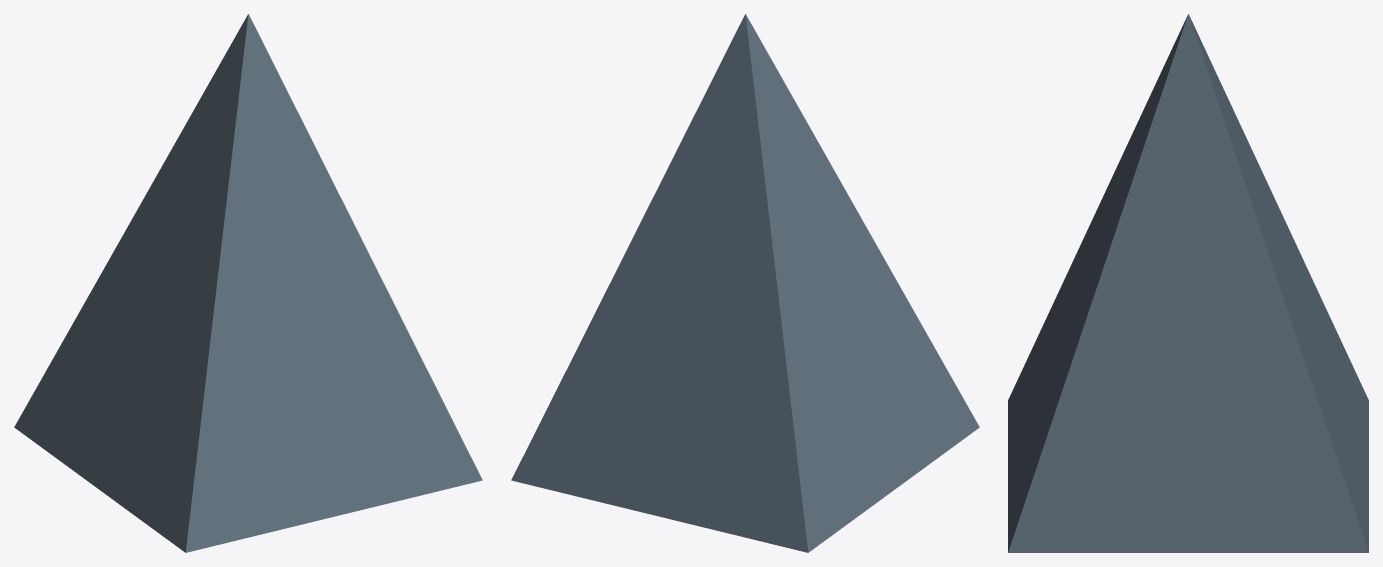
3 renders of one model, left to right at view 1: azimuth 30°, elevation 25°; view 2: azimuth 150°, elevation 25°; view 3: azimuth 270°, elevation 25°, orthographic. The views are drawn at different scales.
Visible parts, largest first — view 1: P06_Pyramid; view 2: P06_Pyramid; view 3: P06_Pyramid.
Boxes of the visible parts, bbox=[...] form: P06_Pyramid: bbox=[14, 14, 482, 552]; P06_Pyramid: bbox=[511, 14, 979, 552]; P06_Pyramid: bbox=[1008, 14, 1368, 552].
Size of the model in its own units: 1.06 by 1.5 by 1.06.
1 material, 1 textured.
